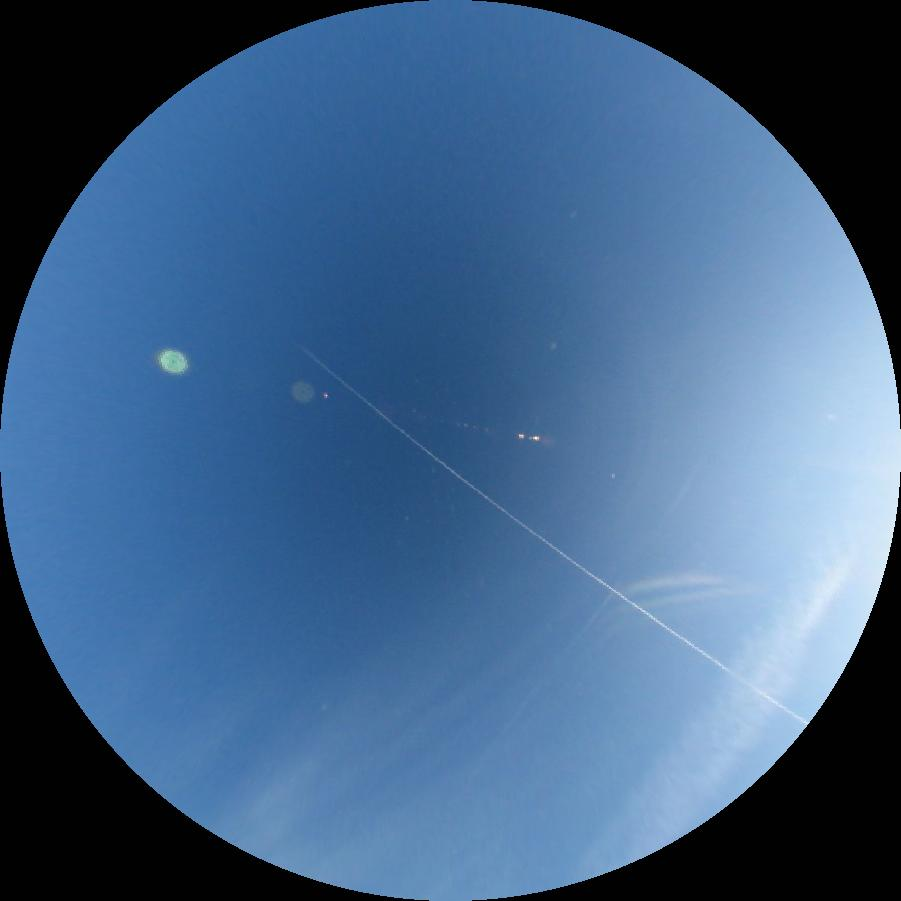contrail veryold: (570, 516, 883, 883)
contrail young: (294, 343, 810, 726), (504, 469, 693, 731)
parasite: (622, 588, 738, 612), (621, 575, 730, 594)
